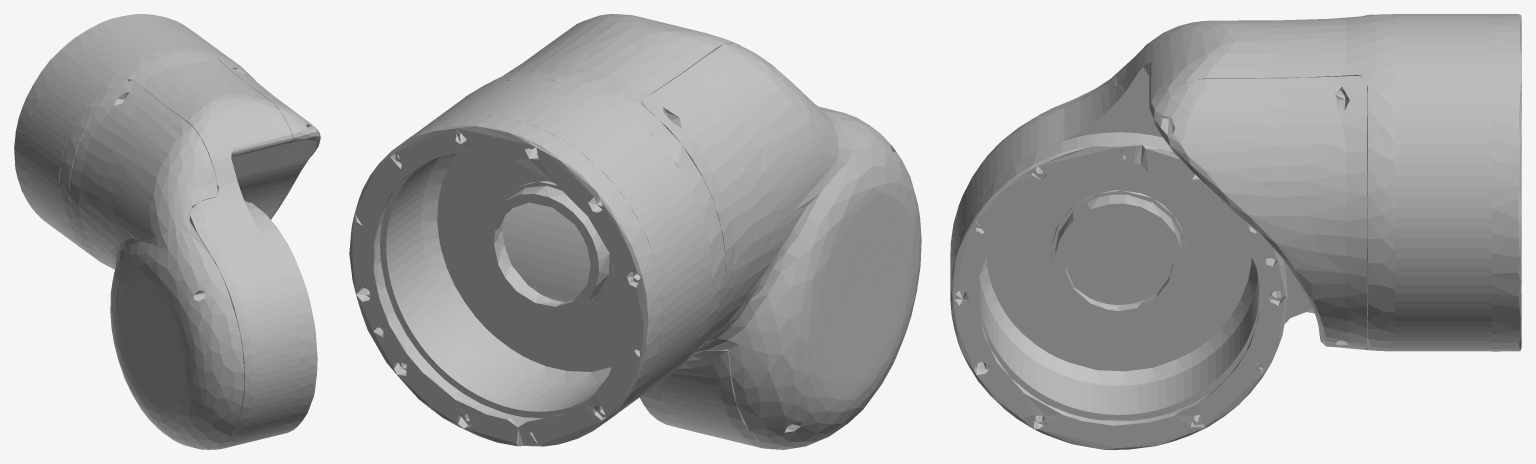
File: r2cl_ext_bone2.dae
3 views of the same model, side by side, from view 1: azimuth 30°, elevation 25°; view 2: azimuth 150°, elevation 25°; view 3: azimuth 270°, elevation 25° (orthographic). The views are drawn at different scales.
Parts seen in each view (by area): view 1: node; view 2: node; view 3: node.
Part boxes in pixels (box(x1,y1,x2,y2)): node: box(14, 14, 320, 449); node: box(349, 14, 921, 449); node: box(950, 14, 1521, 449).
Size of the model in its own units: 0.1359 by 0.1829 by 0.2236.
Materials: 1 (1 with a texture image).
